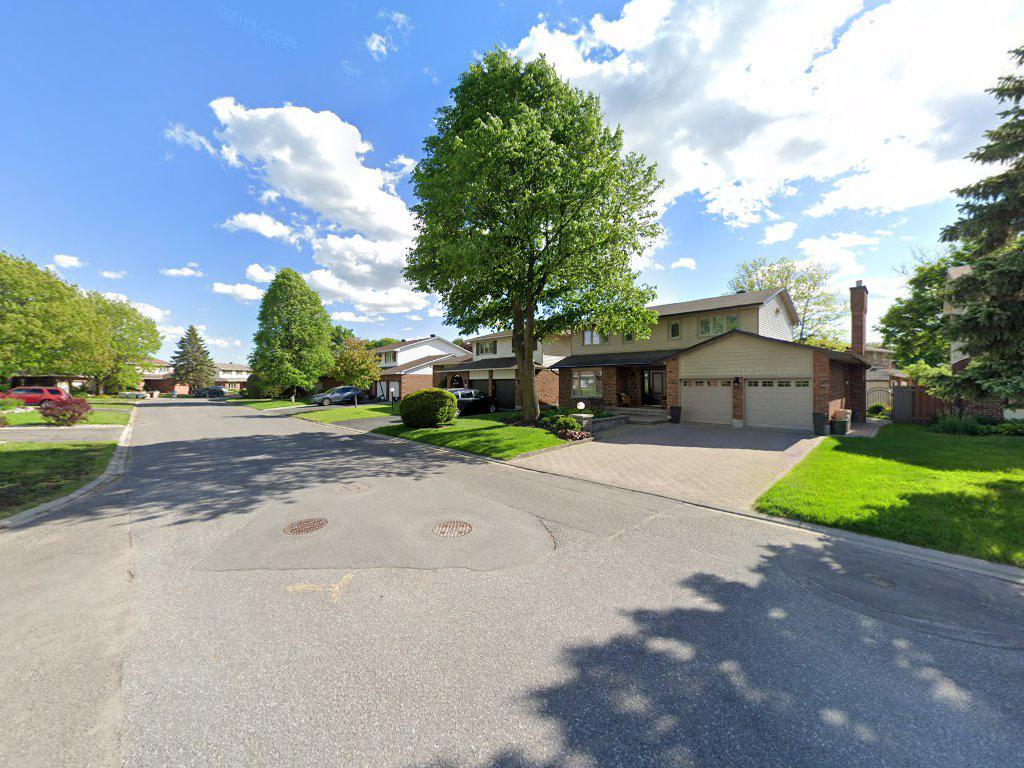trunk: (508, 308, 546, 435)
